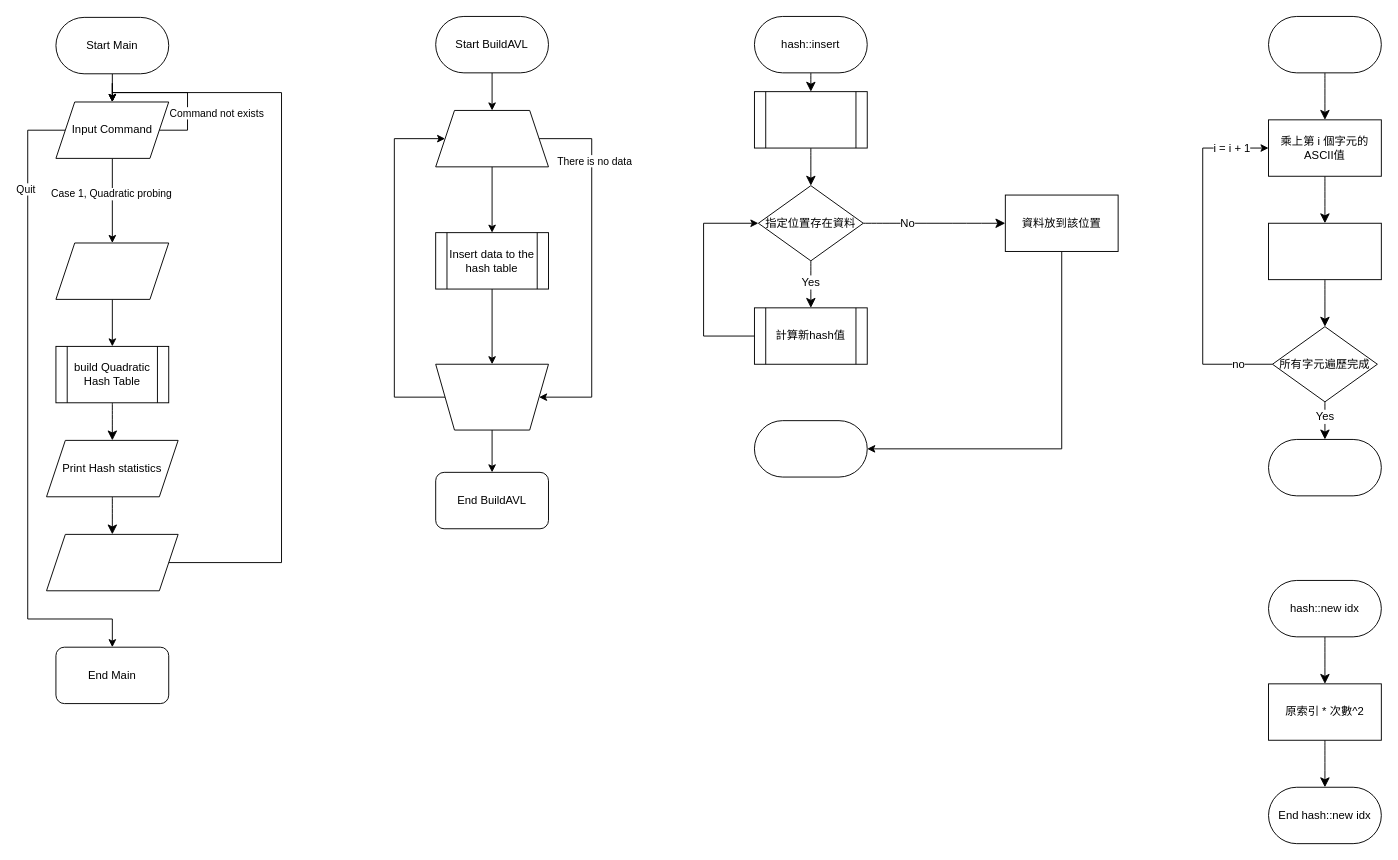
This 1398x860 diagram has some shape labels left out. The shapes that lost their labels are listed below. From the top down, each one's centre as x and y in pixels, then its label:
At [1324,44]: "hash::idx".
At [491,138]: "for all data".
At [810,119]: "計算hash值".
At [112,270]: "Read all data".
At [1324,251]: "%雜湊表大小".
At [491,396]: "end for all data".
At [810,448]: "End hash::insert".
At [1324,467]: "End hash::idx".
At [112,562]: "write to file".
